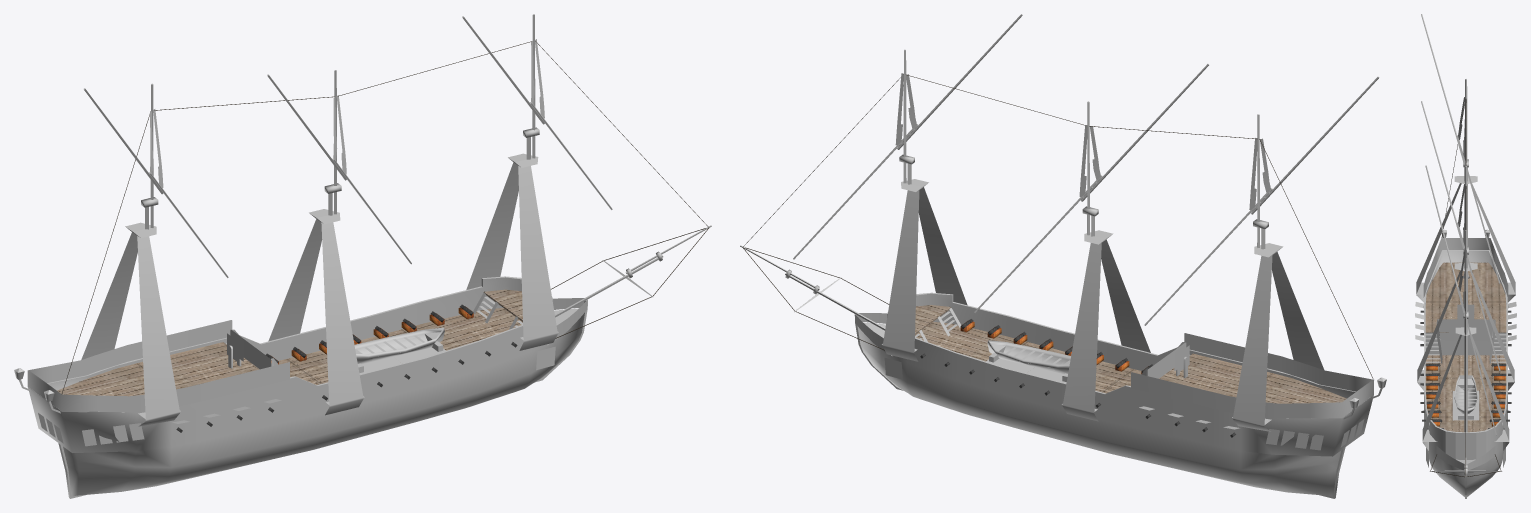
Rendered from GalleyLD3.FBX.
3 views of the same model, side by side, from view 1: azimuth 30°, elevation 25°; view 2: azimuth 150°, elevation 25°; view 3: azimuth 270°, elevation 25° (orthographic). The views are drawn at different scales.
Parts seen in each view (by area): view 1: GalleyCorpsLD3_001, VantsLow_018, GalleyBoardsLow_011, DeckLD2_002, GalleyMastsLD3_001, BoatLD3_001, ShipElementsLOW_017, MastsRopesLow_004, Rope1LD0_029, WindowLD3_001; view 2: GalleyCorpsLD3_001, VantsLow_018, GalleyBoardsLow_011, DeckLD2_002, GalleyMastsLD3_001, MastsRopesLow_004, BoatLD3_001, ShipElementsLOW_017, Rope1LD0_029, WindowLD3_001; view 3: DeckLD2_002, GalleyCorpsLD3_001, GalleyMastsLD3_001, VantsLow_018, GalleyBoardsLow_011, BoatLD3_001, MastsRopesLow_004, ShipElementsLOW_017, Rope1LD0_029, GalleyBoardsLD2_002, DoorLD3_001, DoorLD3_002.
Part boxes in pixels (bbox=[...]): GalleyCorpsLD3_001: bbox=[28, 276, 587, 498]; VantsLow_018: bbox=[81, 162, 557, 426]; GalleyBoardsLow_011: bbox=[27, 298, 587, 412]; DeckLD2_002: bbox=[57, 289, 522, 396]; GalleyMastsLD3_001: bbox=[83, 14, 711, 418]; BoatLD3_001: bbox=[354, 327, 444, 373]; ShipElementsLOW_017: bbox=[227, 332, 555, 373]; MastsRopesLow_004: bbox=[150, 39, 544, 188]; Rope1LD0_029: bbox=[62, 41, 708, 393]; WindowLD3_001: bbox=[38, 413, 144, 446]; GalleyCorpsLD3_001: bbox=[854, 292, 1373, 498]; VantsLow_018: bbox=[882, 187, 1324, 431]; GalleyBoardsLow_011: bbox=[855, 313, 1373, 418]; DeckLD2_002: bbox=[915, 305, 1346, 403]; GalleyMastsLD3_001: bbox=[740, 14, 1379, 424]; MastsRopesLow_004: bbox=[895, 73, 1271, 210]; BoatLD3_001: bbox=[987, 340, 1070, 381]; ShipElementsLOW_017: bbox=[884, 344, 1189, 383]; Rope1LD0_029: bbox=[743, 74, 1373, 378]; WindowLD3_001: bbox=[1266, 419, 1364, 450]; DeckLD2_002: bbox=[1425, 262, 1506, 432]; GalleyCorpsLD3_001: bbox=[1415, 250, 1516, 498]; GalleyMastsLD3_001: bbox=[1416, 14, 1515, 477]; VantsLow_018: bbox=[1416, 183, 1515, 450]; GalleyBoardsLow_011: bbox=[1423, 238, 1508, 470]; BoatLD3_001: bbox=[1454, 375, 1477, 419]; MastsRopesLow_004: bbox=[1458, 97, 1466, 310]; ShipElementsLOW_017: bbox=[1426, 304, 1505, 467]; Rope1LD0_029: bbox=[1430, 99, 1501, 477]; GalleyBoardsLD2_002: bbox=[1425, 334, 1506, 362]; DoorLD3_001: bbox=[1445, 340, 1457, 355]; DoorLD3_002: bbox=[1474, 340, 1486, 355].
Size of the model in its own units: 706 by 432 by 126.
